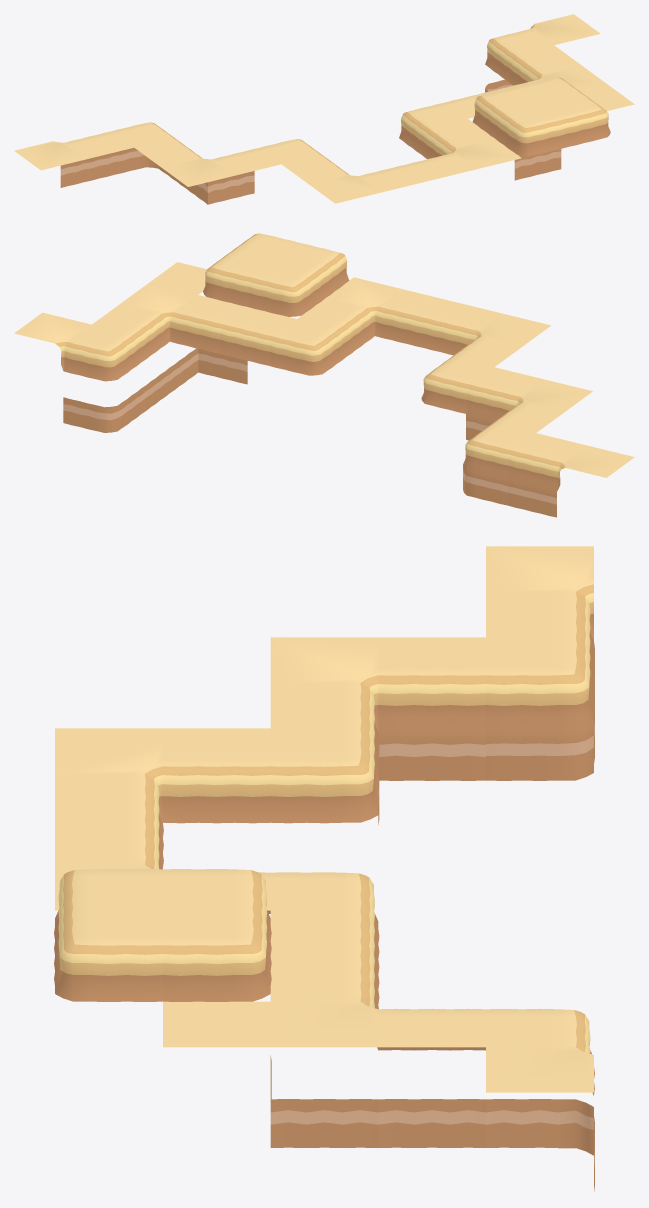
Rendered from DaySandBlocks.glb.
3 views of the same model, one above another, from view 1: azimuth 30°, elevation 25°; view 2: azimuth 150°, elevation 25°; view 3: azimuth 270°, elevation 25° (orthographic). The views are drawn at different scales.
Visible parts, largest first — view 1: U-Shaped Sand, Sand Island, Long Inner Edge Sand Block, Inner Edge Sand Block, Long Edge Sand Block, Long Outer Edge Sand Block, Outer Edge Sand Block, Isolated Sand Block, Long Isolated Sand Block, Under Inner Edge Sand Block, Flat Sand Block, Edge Sand Block; view 2: U-Shaped Sand, Sand Island, Inner Edge Sand Block, Long Inner Edge Sand Block, Long Edge Sand Block, Long Outer Edge Sand Block, Outer Edge Sand Block, Edge Sand Block, Under Outer Edge Sand Block, Under Inner Edge Sand Block, Isolated Sand Block, Long Isolated Sand Block (+2 smaller); view 3: U-Shaped Sand, Sand Island, Long Inner Edge Sand Block, Long Outer Edge Sand Block, Inner Edge Sand Block, Under Inner Edge Sand Block, Under Outer Edge Sand Block, Under Edge Sand Block, Long Isolated Sand Block, Long Edge Sand Block, Edge Sand Block, Flat Sand Block (+2 smaller).
Part boxes in pixels (x1,y1,x2,y2): U-Shaped Sand: [259, 102, 521, 203]; Sand Island: [472, 77, 610, 156]; Long Inner Edge Sand Block: [134, 138, 280, 204]; Inner Edge Sand Block: [493, 45, 607, 91]; Long Edge Sand Block: [60, 131, 133, 187]; Long Outer Edge Sand Block: [107, 122, 180, 184]; Outer Edge Sand Block: [485, 29, 553, 80]; Isolated Sand Block: [530, 14, 600, 44]; Long Isolated Sand Block: [14, 141, 86, 170]; Under Inner Edge Sand Block: [514, 149, 561, 180]; Flat Sand Block: [580, 84, 634, 110]; Edge Sand Block: [446, 91, 493, 118]; U-Shaped Sand: [268, 277, 551, 413]; Sand Island: [203, 233, 349, 316]; Inner Edge Sand Block: [92, 283, 246, 362]; Long Inner Edge Sand Block: [466, 367, 592, 440]; Long Edge Sand Block: [507, 433, 585, 517]; Long Outer Edge Sand Block: [463, 423, 535, 505]; Outer Edge Sand Block: [63, 324, 140, 381]; Edge Sand Block: [219, 307, 296, 365]; Under Outer Edge Sand Block: [63, 388, 141, 432]; Under Inner Edge Sand Block: [169, 348, 247, 392]; Isolated Sand Block: [14, 312, 91, 370]; Long Isolated Sand Block: [557, 445, 634, 490]; U-Shaped Sand: [55, 728, 379, 958]; Sand Island: [54, 869, 271, 1001]; Long Inner Edge Sand Block: [270, 637, 485, 824]; Long Outer Edge Sand Block: [486, 637, 594, 780]; Inner Edge Sand Block: [270, 956, 485, 1050]; Under Inner Edge Sand Block: [270, 1055, 378, 1147]; Under Outer Edge Sand Block: [486, 1099, 594, 1191]; Under Edge Sand Block: [378, 1099, 485, 1147]; Long Isolated Sand Block: [486, 546, 593, 640]; Long Edge Sand Block: [486, 591, 594, 692]; Edge Sand Block: [270, 910, 379, 1003]; Flat Sand Block: [163, 1001, 270, 1047].
Size of the model in its own units: 24 by 4 by 10.04.
Materials: 1 (1 with a texture image).
